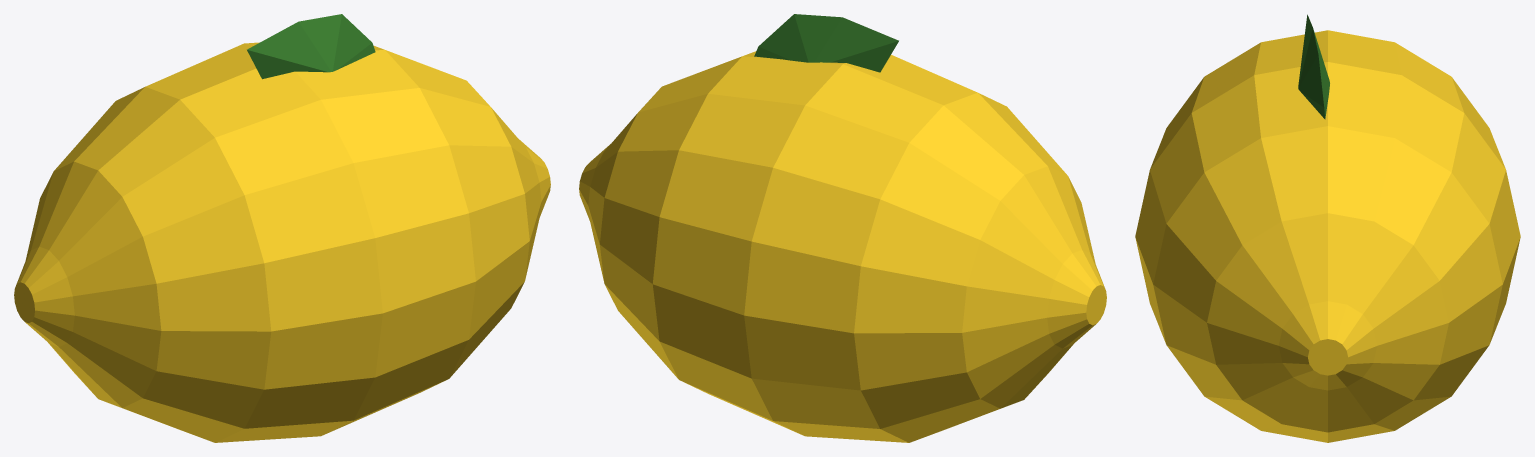
The model's file is LemonFruit.glb.
The picture shows the model from 3 angles, left to right: view 1: azimuth 30°, elevation 25°; view 2: azimuth 150°, elevation 25°; view 3: azimuth 270°, elevation 25°; orthographic projection. The views are drawn at different scales.
Visible parts, largest first — view 1: LemonFruit_LemonRind, LemonFruit_LemonLeaf; view 2: LemonFruit_LemonRind, LemonFruit_LemonLeaf; view 3: LemonFruit_LemonRind, LemonFruit_LemonLeaf.
Part boxes in pixels (x1=…): LemonFruit_LemonRind: x1=14, y1=42, x2=550, y2=442; LemonFruit_LemonLeaf: x1=247, y1=14, x2=375, y2=79; LemonFruit_LemonRind: x1=579, y1=51, x2=1106, y2=442; LemonFruit_LemonLeaf: x1=754, y1=14, x2=898, y2=72; LemonFruit_LemonRind: x1=1135, y1=30, x2=1520, y2=442; LemonFruit_LemonLeaf: x1=1298, y1=14, x2=1329, y2=119.
Bounding box in the file's own units: 1.11 × 0.8302 × 0.7482.
